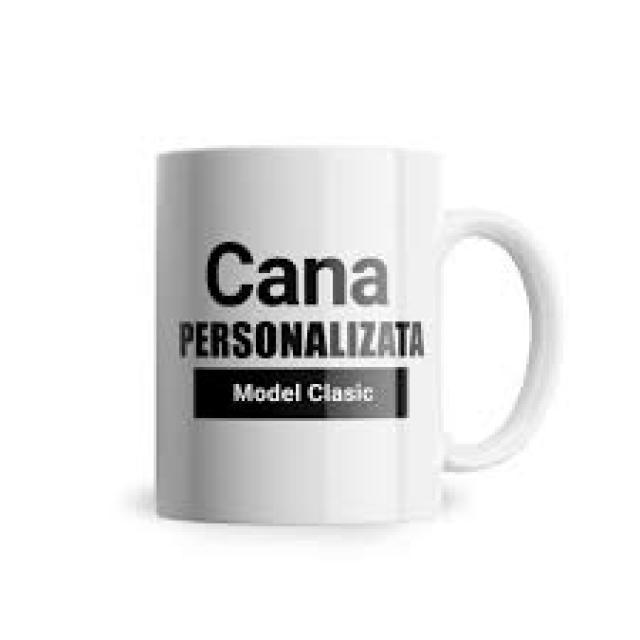taza: (134, 137, 576, 538)
